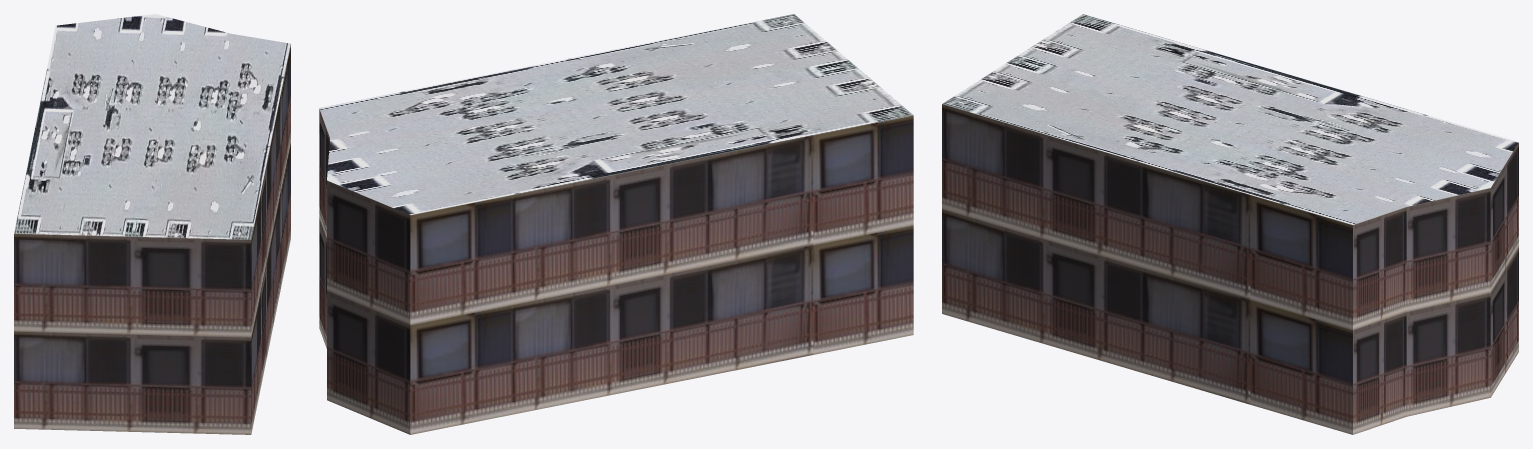
File: ResTex__4397.fbx
3 renders of one model, left to right at view 1: azimuth 30°, elevation 25°; view 2: azimuth 150°, elevation 25°; view 3: azimuth 270°, elevation 25°, orthographic. The views are drawn at different scales.
Visible parts, largest first — view 1: CityEngineMaterial_6_m, CityEngineMaterial_8_m; view 2: CityEngineMaterial_6_m, CityEngineMaterial_8_m; view 3: CityEngineMaterial_6_m, CityEngineMaterial_8_m.
Boxes of the visible parts, x1,y1,x2,y2 form: CityEngineMaterial_6_m: [14, 44, 290, 434]; CityEngineMaterial_8_m: [14, 14, 290, 239]; CityEngineMaterial_6_m: [319, 109, 913, 434]; CityEngineMaterial_8_m: [319, 14, 913, 214]; CityEngineMaterial_6_m: [942, 104, 1518, 434]; CityEngineMaterial_8_m: [942, 14, 1518, 224].
Size of the model in its own units: 12.95 by 6 by 14.95.
2 materials, 2 textured.
